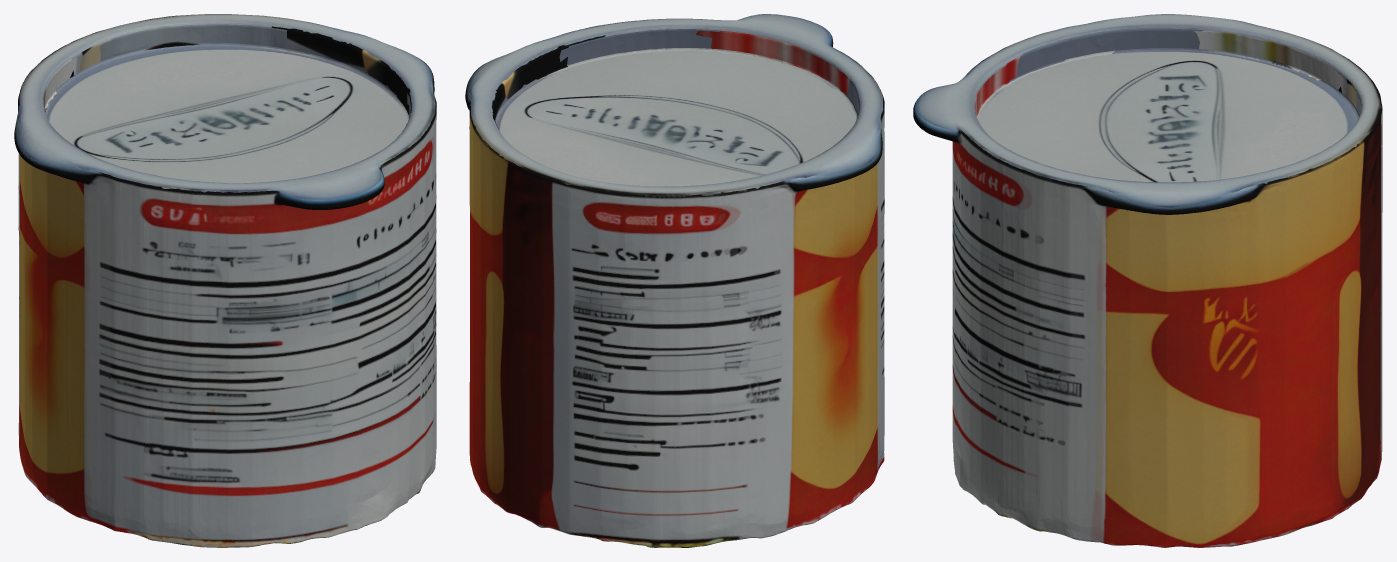
File: image_0002_segmented.glb
3 renders of one model, left to right at view 1: azimuth 30°, elevation 25°; view 2: azimuth 150°, elevation 25°; view 3: azimuth 270°, elevation 25°, orthographic.
Visible parts, largest first — view 1: tmpi2qd6kyf.ply; view 2: tmpi2qd6kyf.ply; view 3: tmpi2qd6kyf.ply.
Part boxes in pixels (left/top/right/bottom): tmpi2qd6kyf.ply: left=14, top=14, right=436, bottom=547; tmpi2qd6kyf.ply: left=465, top=14, right=884, bottom=547; tmpi2qd6kyf.ply: left=913, top=14, right=1382, bottom=547.
Size of the model in its own units: 1.95 by 1.68 by 1.99.
1 material, 1 textured.
